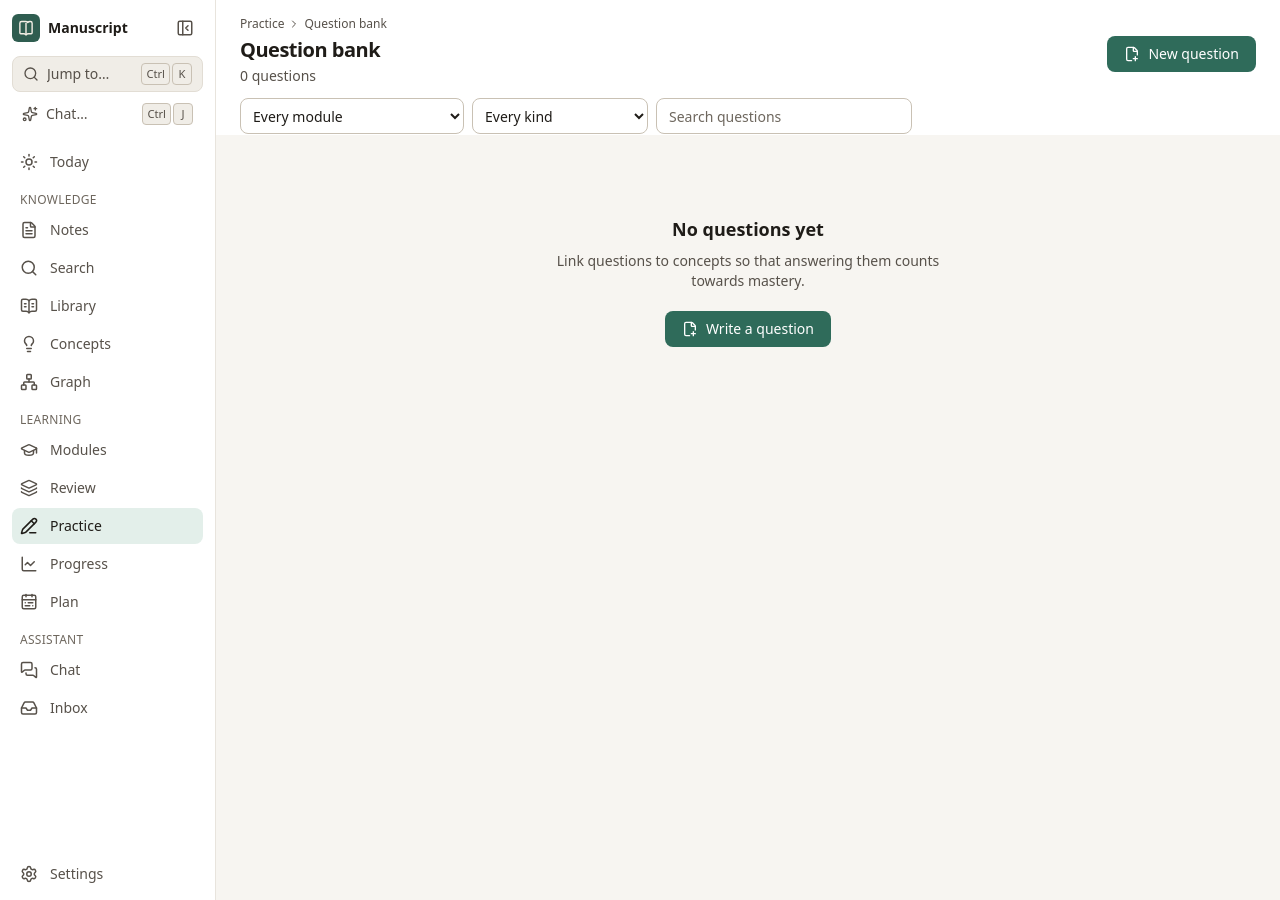
Test: the question editor › refuses options without text before sending anything
Click the button "Write a question". click: coordinates (748, 329)
box: left=665, top=311, right=831, bottom=347
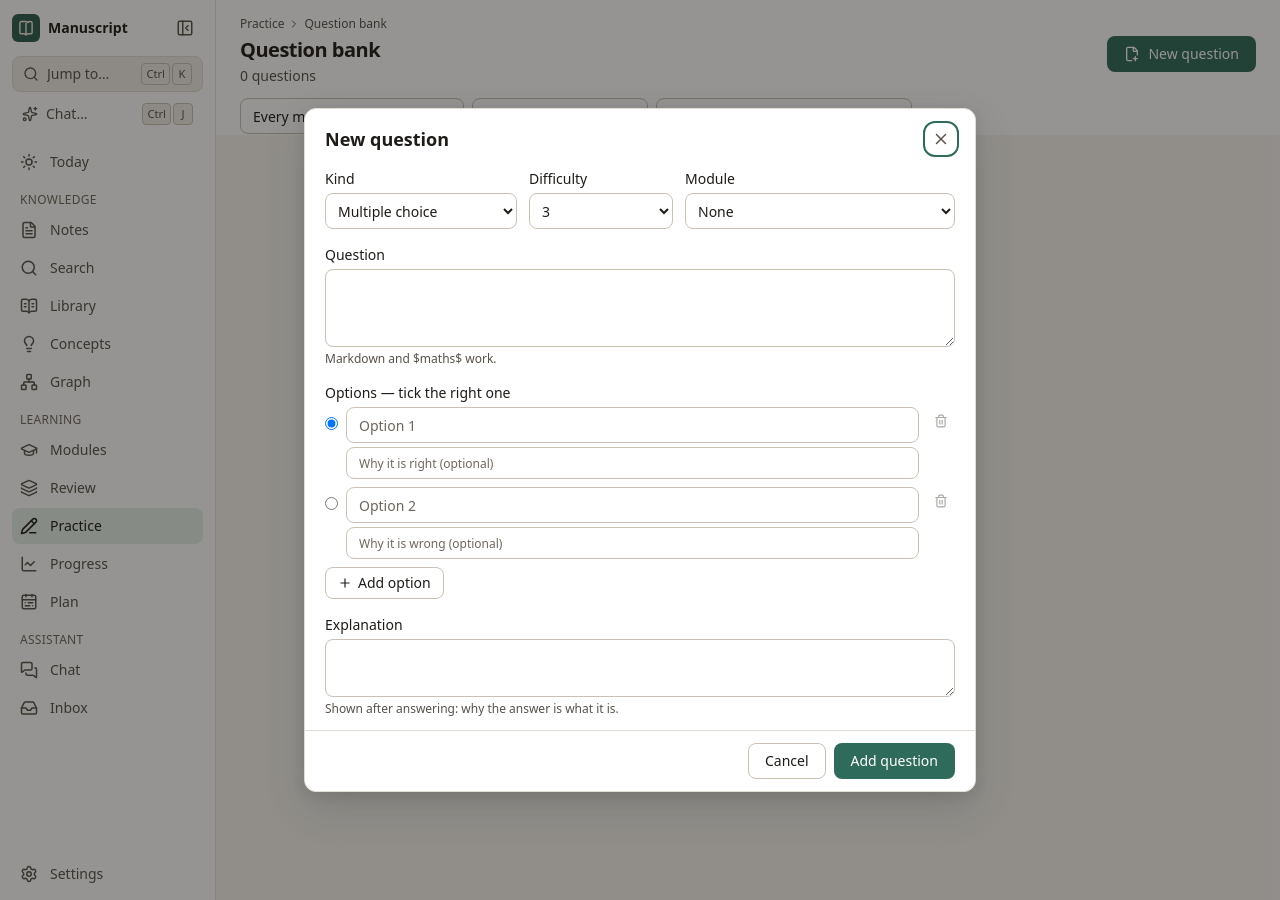
Type "Empty options" into the text box labelled "Question". click: coordinates (640, 308)
box: left=325, top=269, right=955, bottom=347
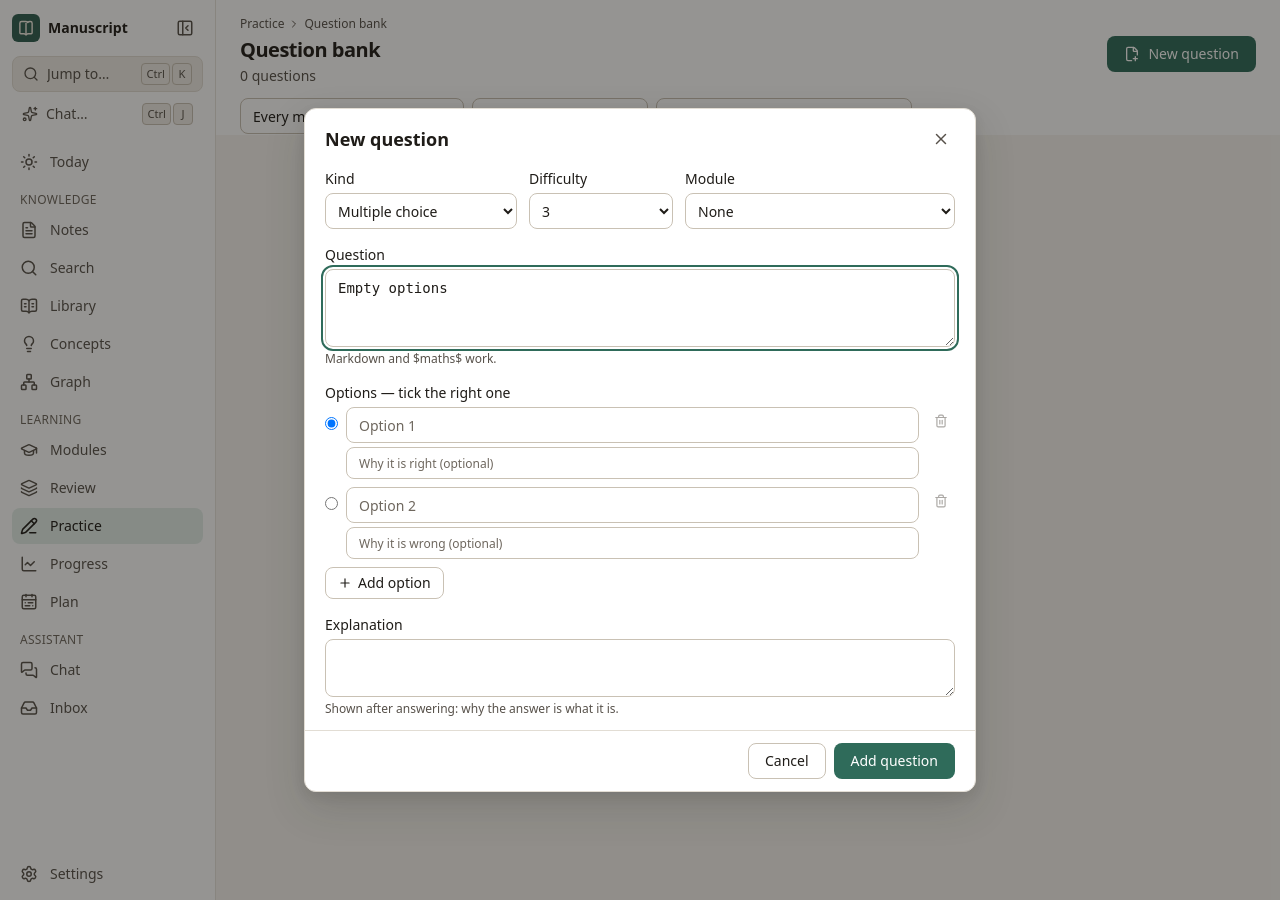
Click the button "Add question". click: coordinates (894, 761)
box: left=834, top=743, right=955, bottom=779
(page scrolled)
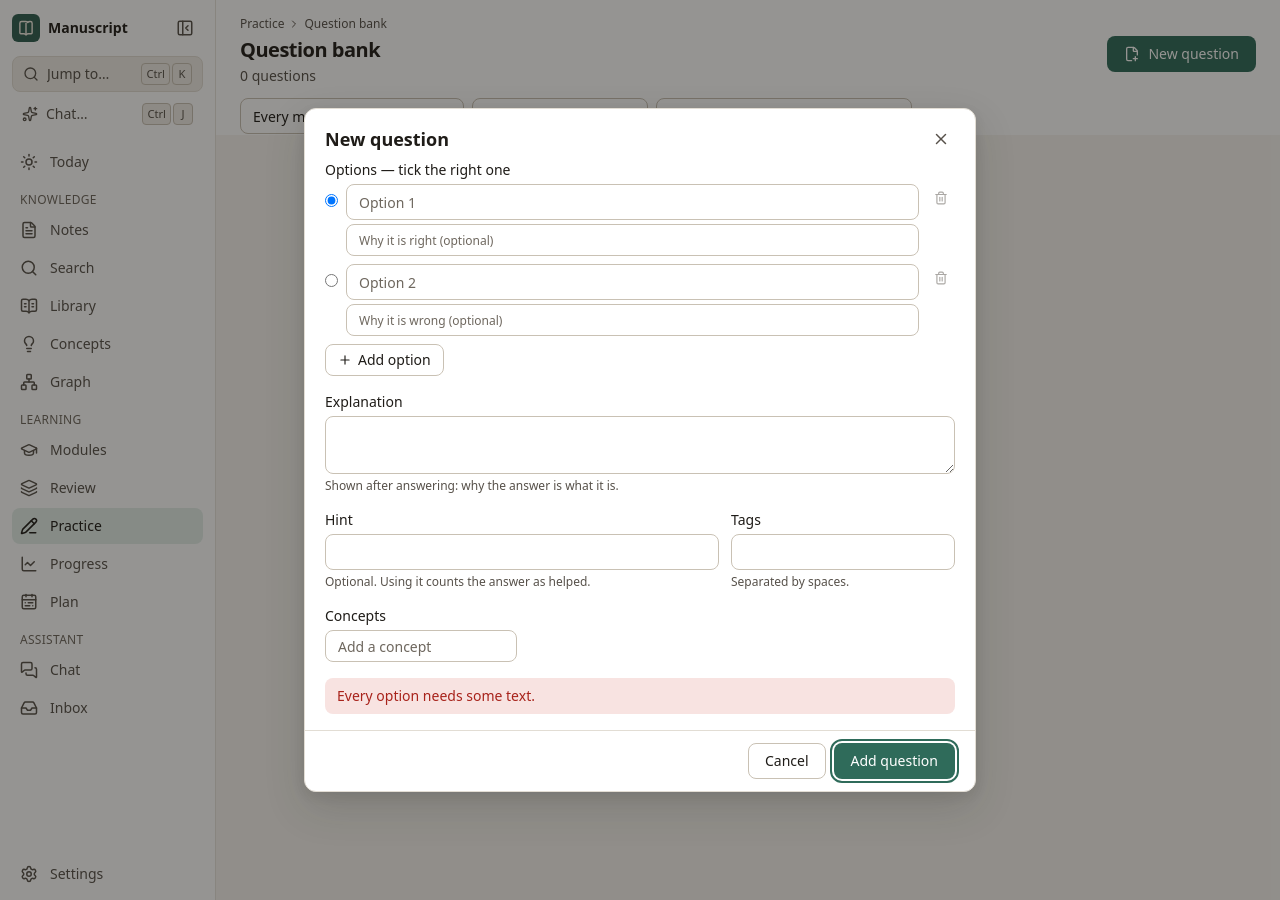
Now the message reads "Every option needs some text.", box left=337, top=686, right=535, bottom=705
